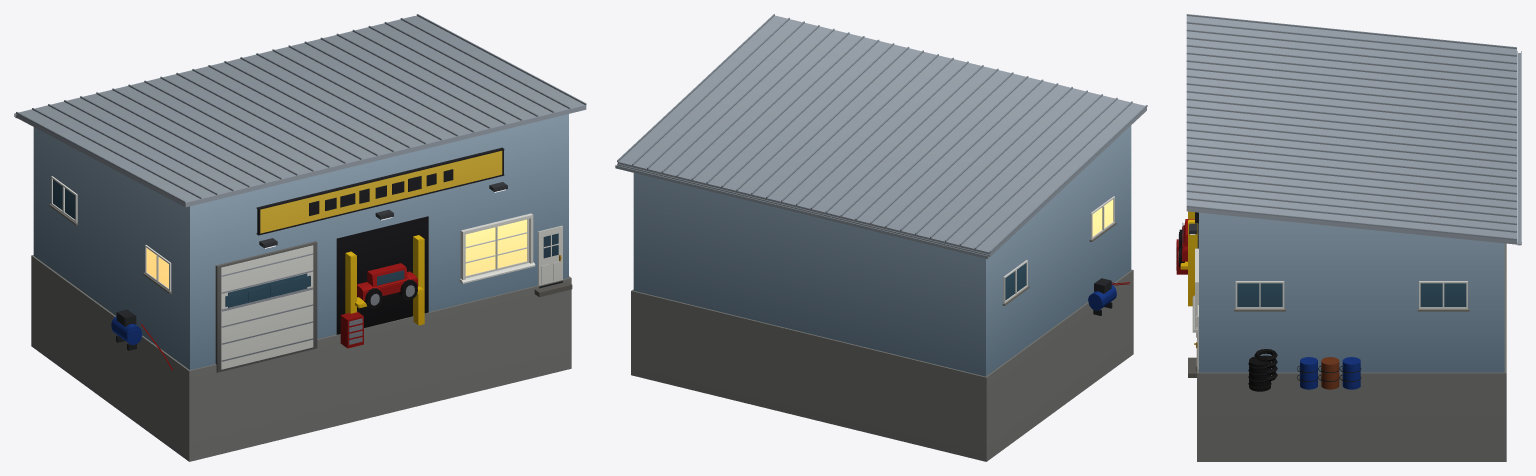
Rendered from Garage.fbx.
The picture shows the model from 3 angles, left to right: view 1: azimuth 30°, elevation 25°; view 2: azimuth 150°, elevation 25°; view 3: azimuth 270°, elevation 25°; orthographic projection. The views are drawn at different scales.
Visible parts, largest first — view 1: Garage_LOD0; view 2: Garage_LOD0; view 3: Garage_LOD0.
Boxes of the visible parts, box(x1,y1,x2,y2) form: Garage_LOD0: box(14, 14, 586, 461); Garage_LOD0: box(615, 14, 1147, 461); Garage_LOD0: box(1176, 14, 1521, 461).
Size of what is drawn, in the model's own units: 15.96 by 9.41 by 11.3.
Materials: 1 (1 with a texture image).
